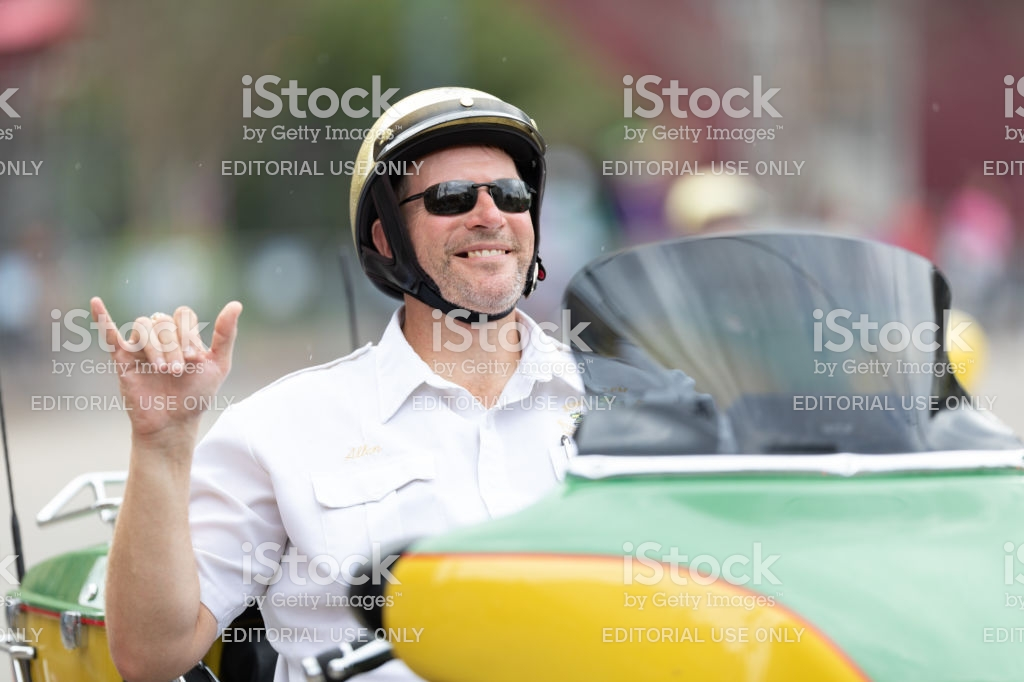helmet: (333, 96, 546, 201)
